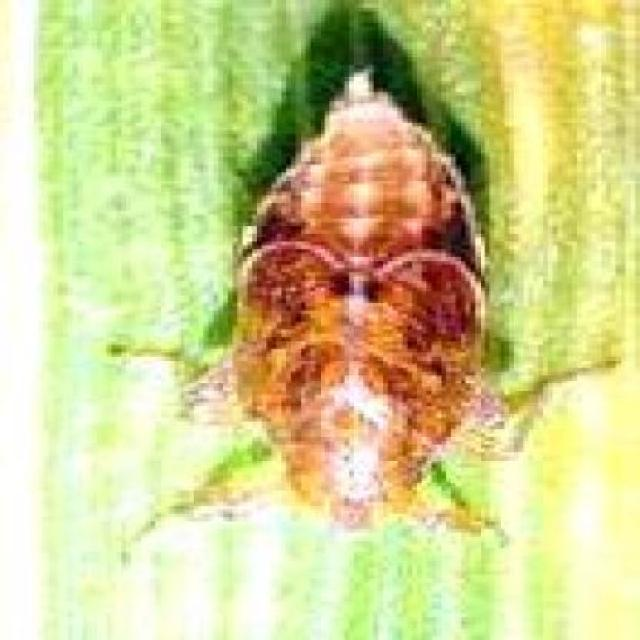brown-planthopper: (208, 58, 502, 536)
